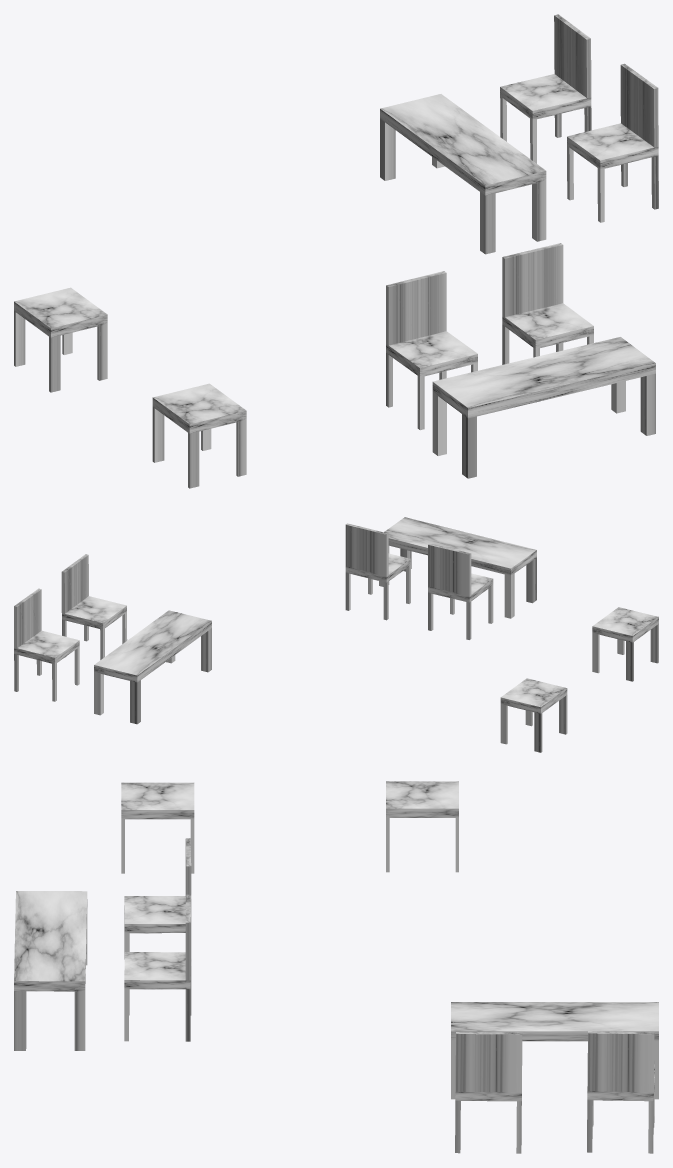
Rendered from furniture.obj.
3 views of the same model, one above another, from view 1: azimuth 30°, elevation 25°; view 2: azimuth 150°, elevation 25°; view 3: azimuth 270°, elevation 25° (orthographic). The views are drawn at different scales.
Visible parts, largest first — view 1: desk2_Cube.002, desk1_Cube, chair3_Cube.004, chair4_Cube.005, chair2_Cube.001, chair1_Cube.003, table2_Cube.007, table1_Cube.006; view 2: desk1_Cube, desk2_Cube.002, chair3_Cube.004, chair4_Cube.005, chair1_Cube.003, chair2_Cube.001, table1_Cube.006, table2_Cube.007; view 3: desk2_Cube.002, desk1_Cube, chair1_Cube.003, chair2_Cube.001, chair4_Cube.005, table2_Cube.007, table1_Cube.006, chair3_Cube.004.
Part boxes in pixels (bbox=[...]): desk2_Cube.002: bbox=[432, 337, 655, 478]; desk1_Cube: bbox=[380, 94, 546, 254]; chair3_Cube.004: bbox=[386, 271, 477, 430]; chair4_Cube.005: bbox=[502, 243, 593, 364]; chair2_Cube.001: bbox=[567, 63, 658, 222]; chair1_Cube.003: bbox=[500, 14, 591, 163]; table2_Cube.007: bbox=[152, 383, 246, 488]; table1_Cube.006: bbox=[14, 287, 107, 392]; desk1_Cube: bbox=[94, 610, 211, 724]; desk2_Cube.002: bbox=[379, 517, 536, 618]; chair3_Cube.004: bbox=[428, 543, 493, 639]; chair4_Cube.005: bbox=[345, 523, 410, 620]; chair1_Cube.003: bbox=[14, 588, 79, 701]; chair2_Cube.001: bbox=[61, 554, 127, 659]; table1_Cube.006: bbox=[500, 678, 567, 752]; table2_Cube.007: bbox=[592, 607, 658, 681]; desk2_Cube.002: bbox=[14, 891, 87, 1050]; desk1_Cube: bbox=[451, 1002, 658, 1099]; chair1_Cube.003: bbox=[587, 1031, 654, 1153]; chair2_Cube.001: bbox=[455, 1032, 522, 1153]; chair4_Cube.005: bbox=[124, 894, 191, 1041]; table2_Cube.007: bbox=[121, 782, 194, 873]; table1_Cube.006: bbox=[386, 781, 458, 872]; chair3_Cube.004: bbox=[124, 838, 191, 959].
Size of the model in its own units: 11.09 by 2.1 by 9.74.
